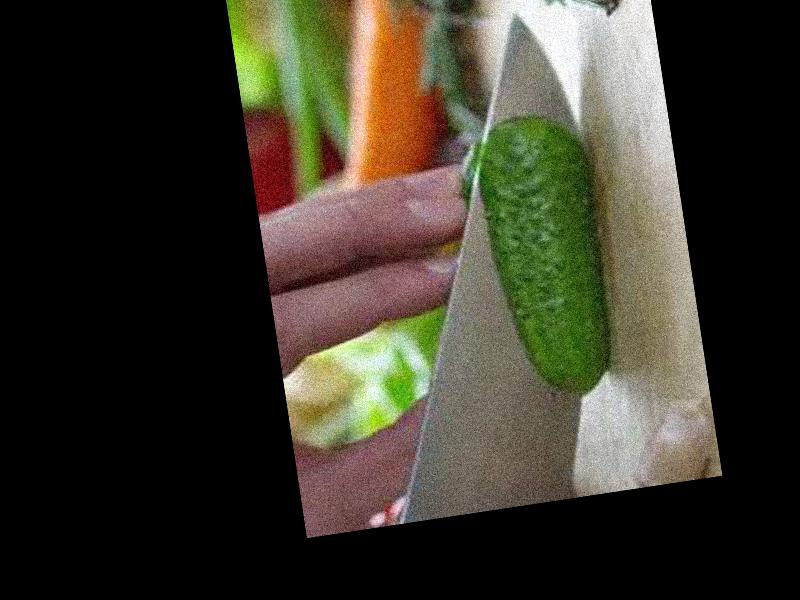Cucumber: (469, 105, 625, 402)
